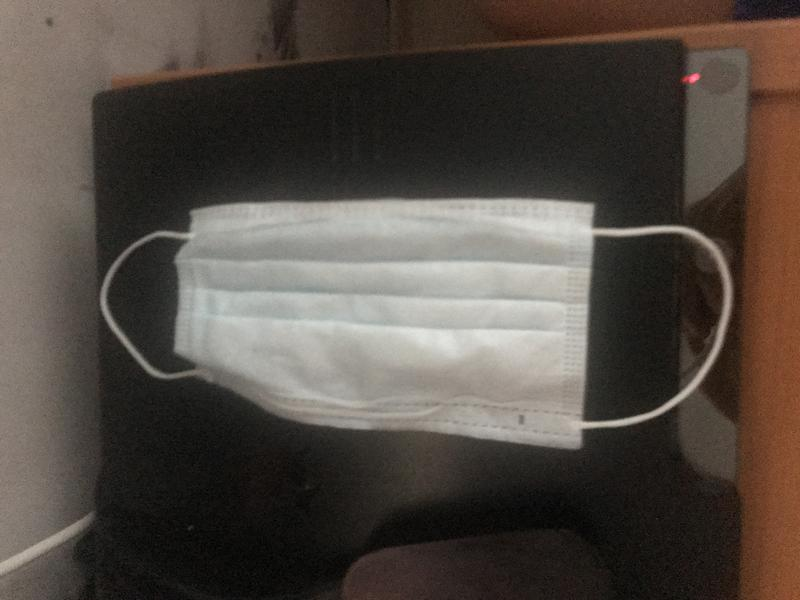medical_mask: (101, 198, 732, 451)
